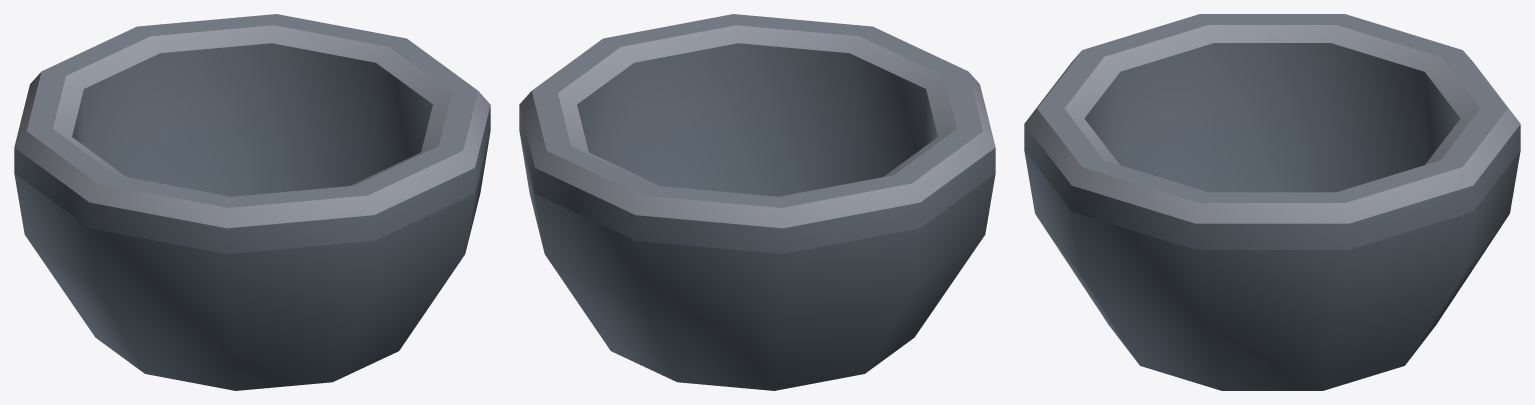
File: Plate_2_B.glb
The picture shows the model from 3 angles, left to right: view 1: azimuth 30°, elevation 25°; view 2: azimuth 150°, elevation 25°; view 3: azimuth 270°, elevation 25°; orthographic projection.
Parts seen in each view (by area): view 1: Plate_2_B; view 2: Plate_2_B; view 3: Plate_2_B.
Part boxes in pixels (x1,y1,x2,y2): Plate_2_B: [14, 14, 490, 390]; Plate_2_B: [519, 14, 995, 390]; Plate_2_B: [1024, 14, 1520, 390].
Size of the model in its own units: 0.2855 by 0.1445 by 0.3002.
Materials: 1 (1 with a texture image).
